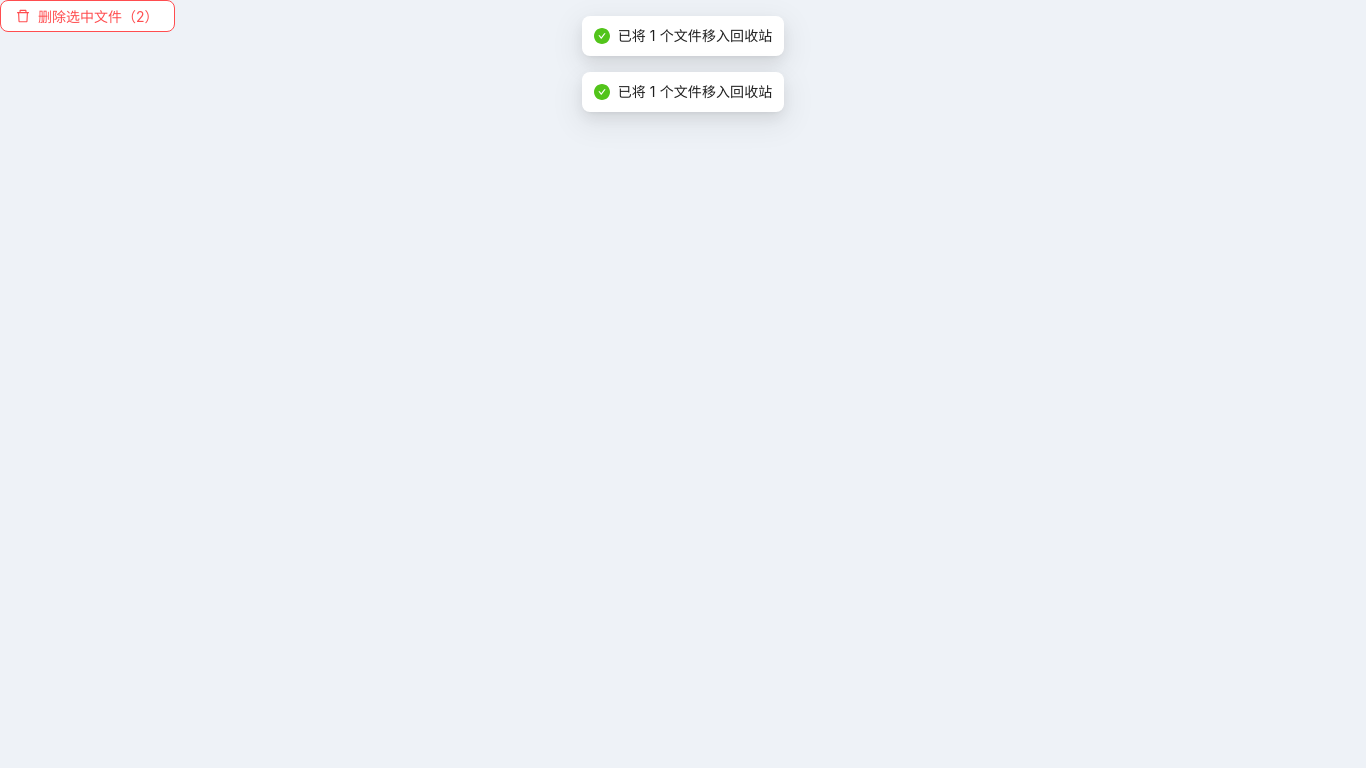
Test case: Direct file deletion › deletes eligible members of a mixed batch and retains referenced members
Click the button "删除选中文件（2）": (87, 16) [0,0,174,32]
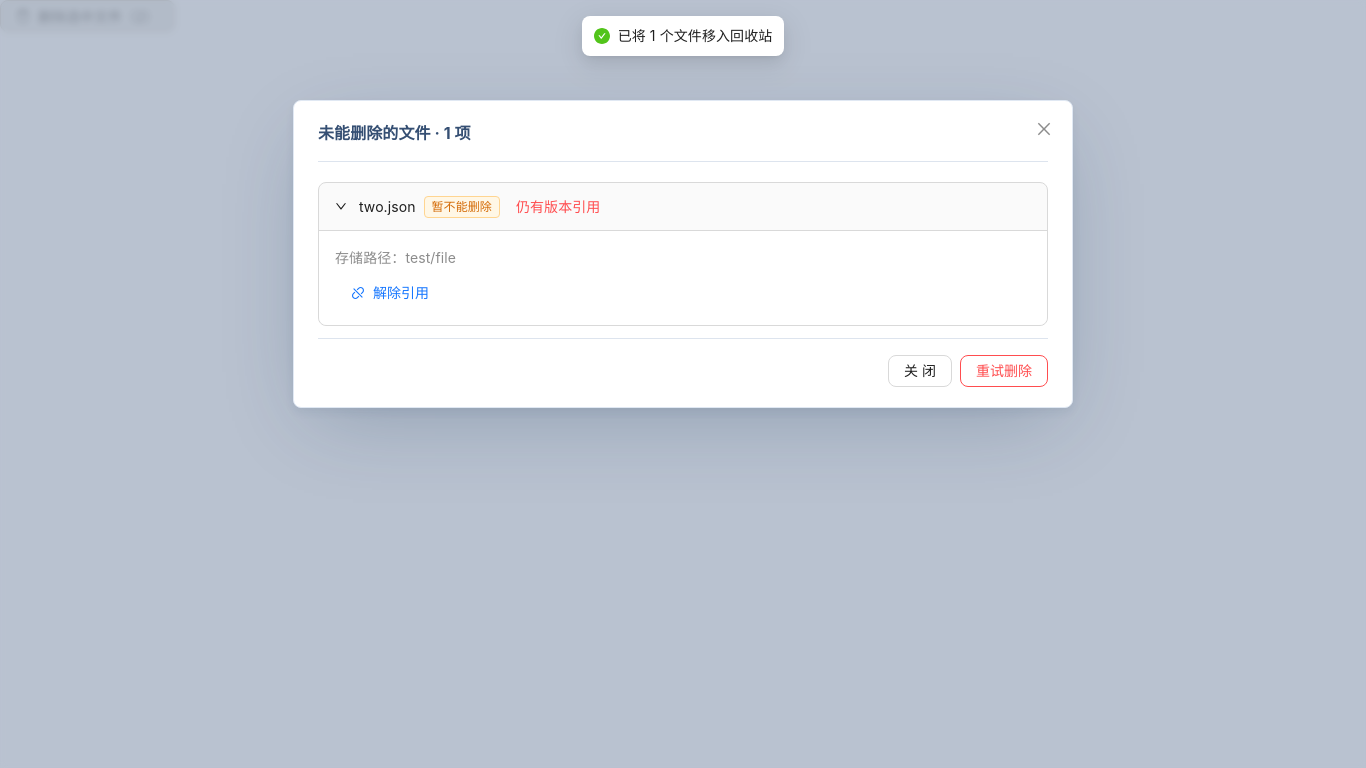
Result: the dialog "未能删除的文件 · 1 项" is shown at [293,100,1073,432]
